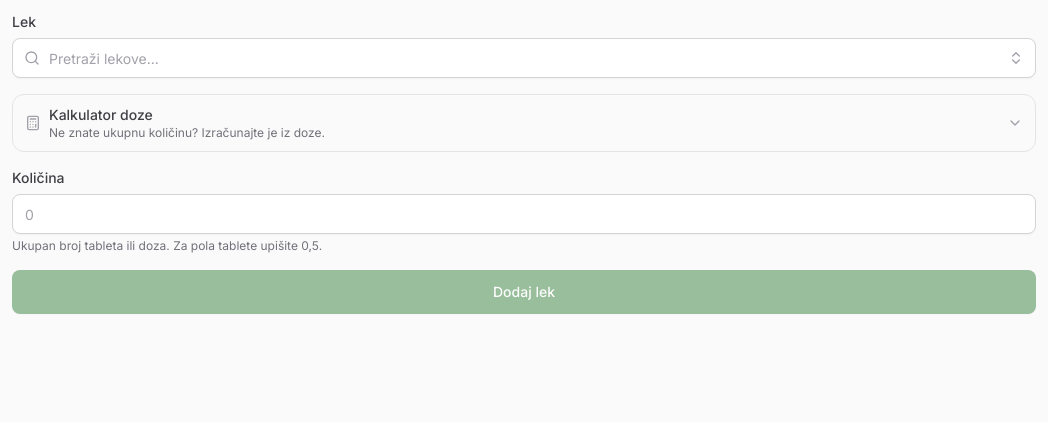
Test case: ConsumeItemForm › kalkulator doze: dani × puta dnevno × doza
Click the button "Kalkulator doze" at (101, 114), box [13, 95, 1035, 151]
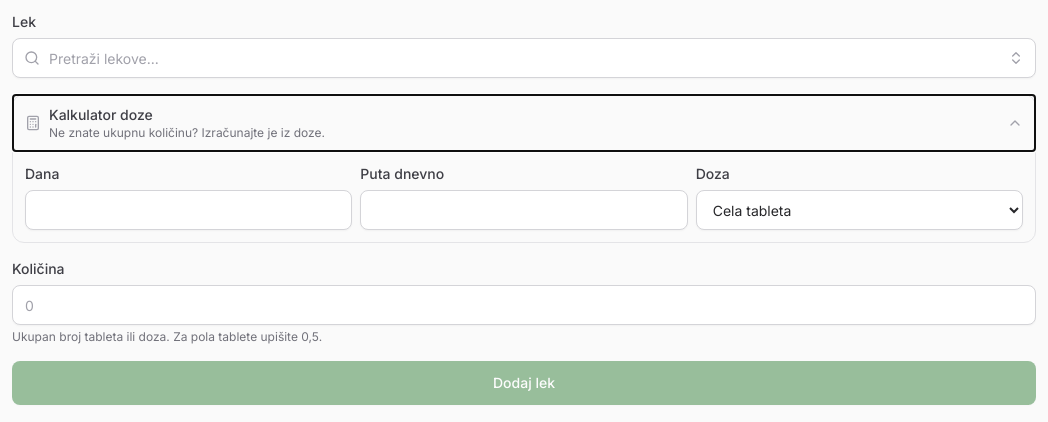
Type "3" into the number field labelled "Dana" at (189, 210), box [25, 190, 352, 230]
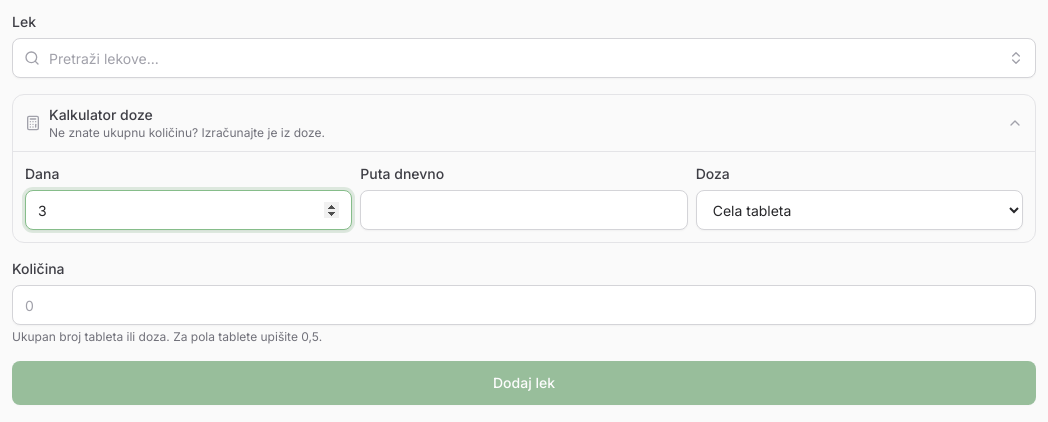
Type "2" into the number field labelled "Puta dnevno" at (524, 210), box [360, 190, 688, 230]
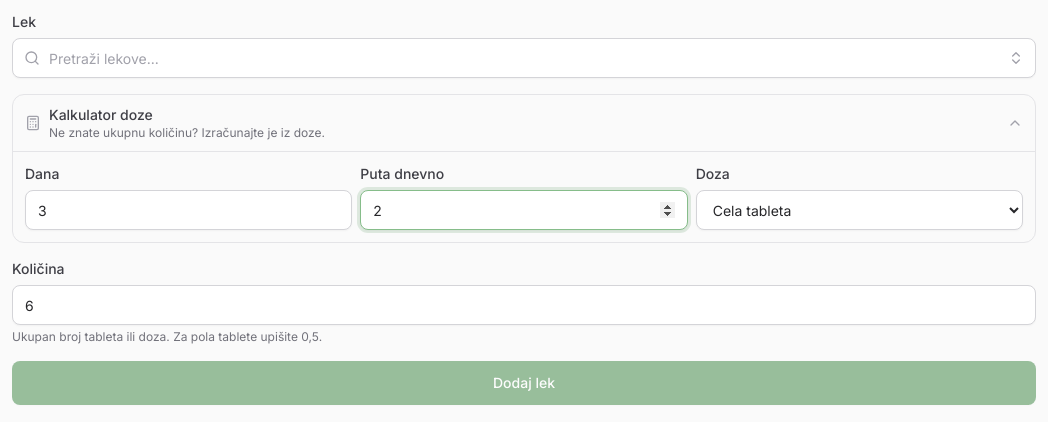
Select "Polovina" in the dropdown labelled "Doza" at (859, 210), box [696, 190, 1023, 230]
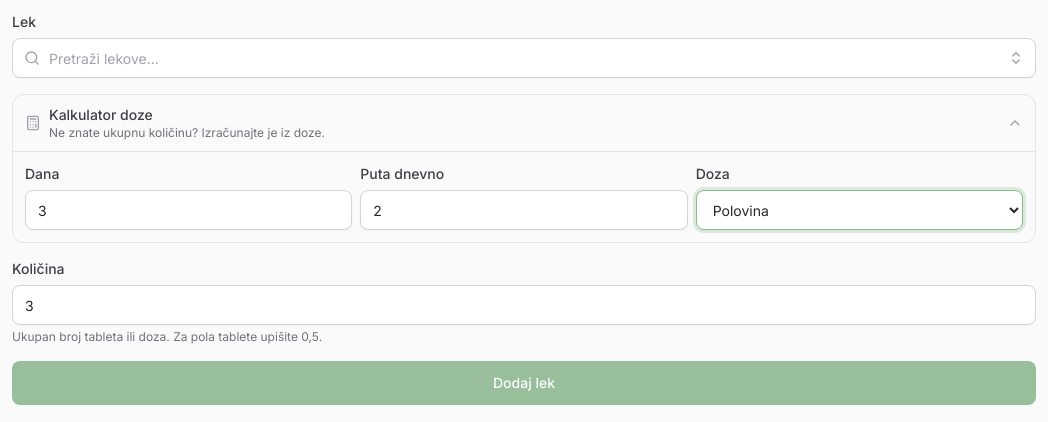
Expected: the field labelled "Količina" holds "3", [12, 285, 1036, 325]
